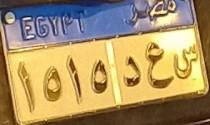1: (14, 59, 37, 116), (66, 51, 84, 111)
5: (40, 62, 64, 106), (88, 59, 111, 98)
ain: (143, 38, 174, 92)
daal: (120, 52, 142, 91)
seen: (173, 43, 201, 84)
